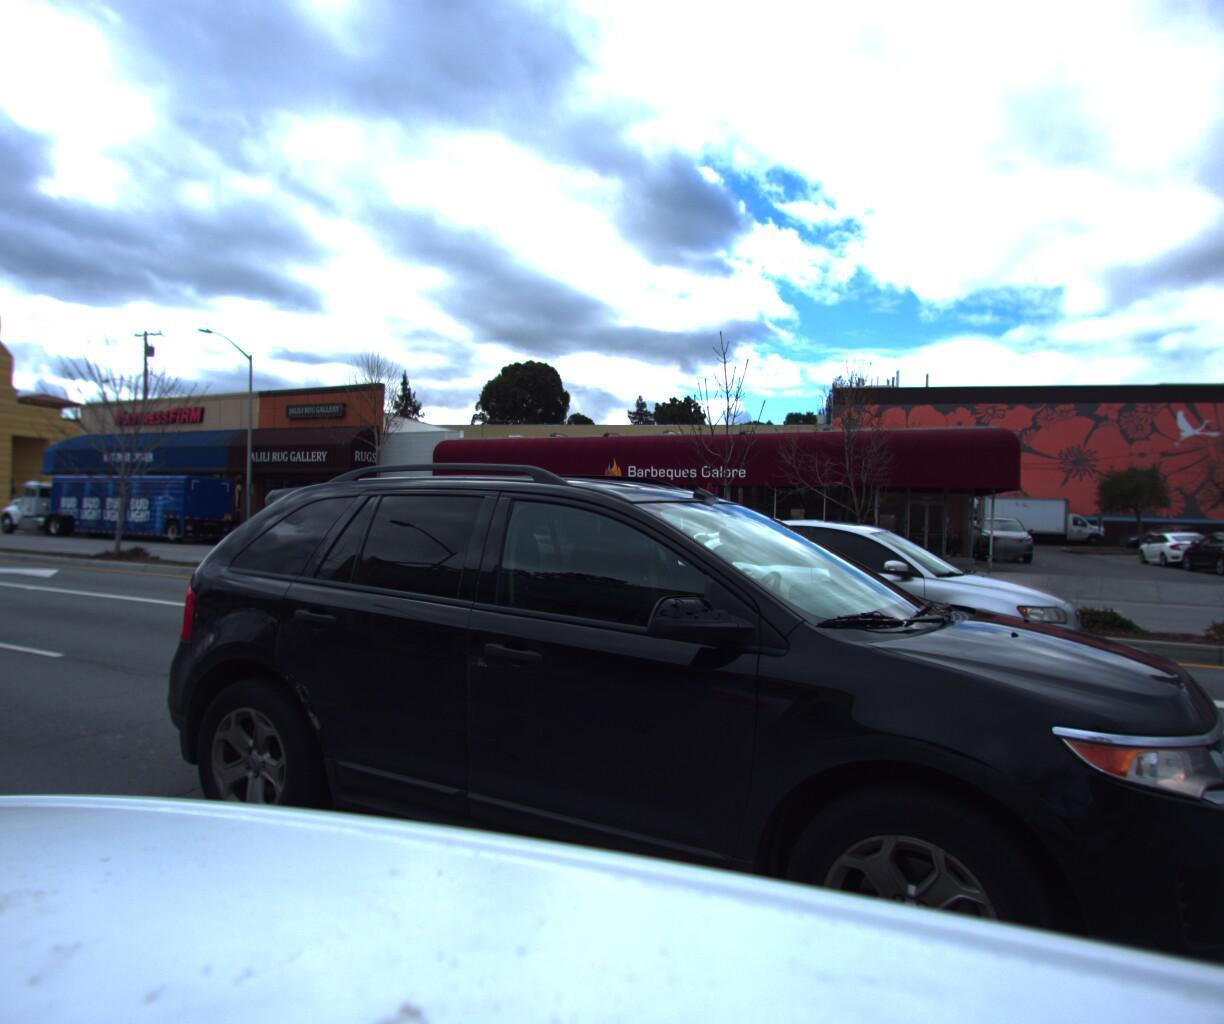car: (102, 400, 1224, 1024), (636, 502, 1093, 689), (631, 514, 831, 585), (1177, 527, 1224, 575)
truck: (0, 473, 239, 540)
